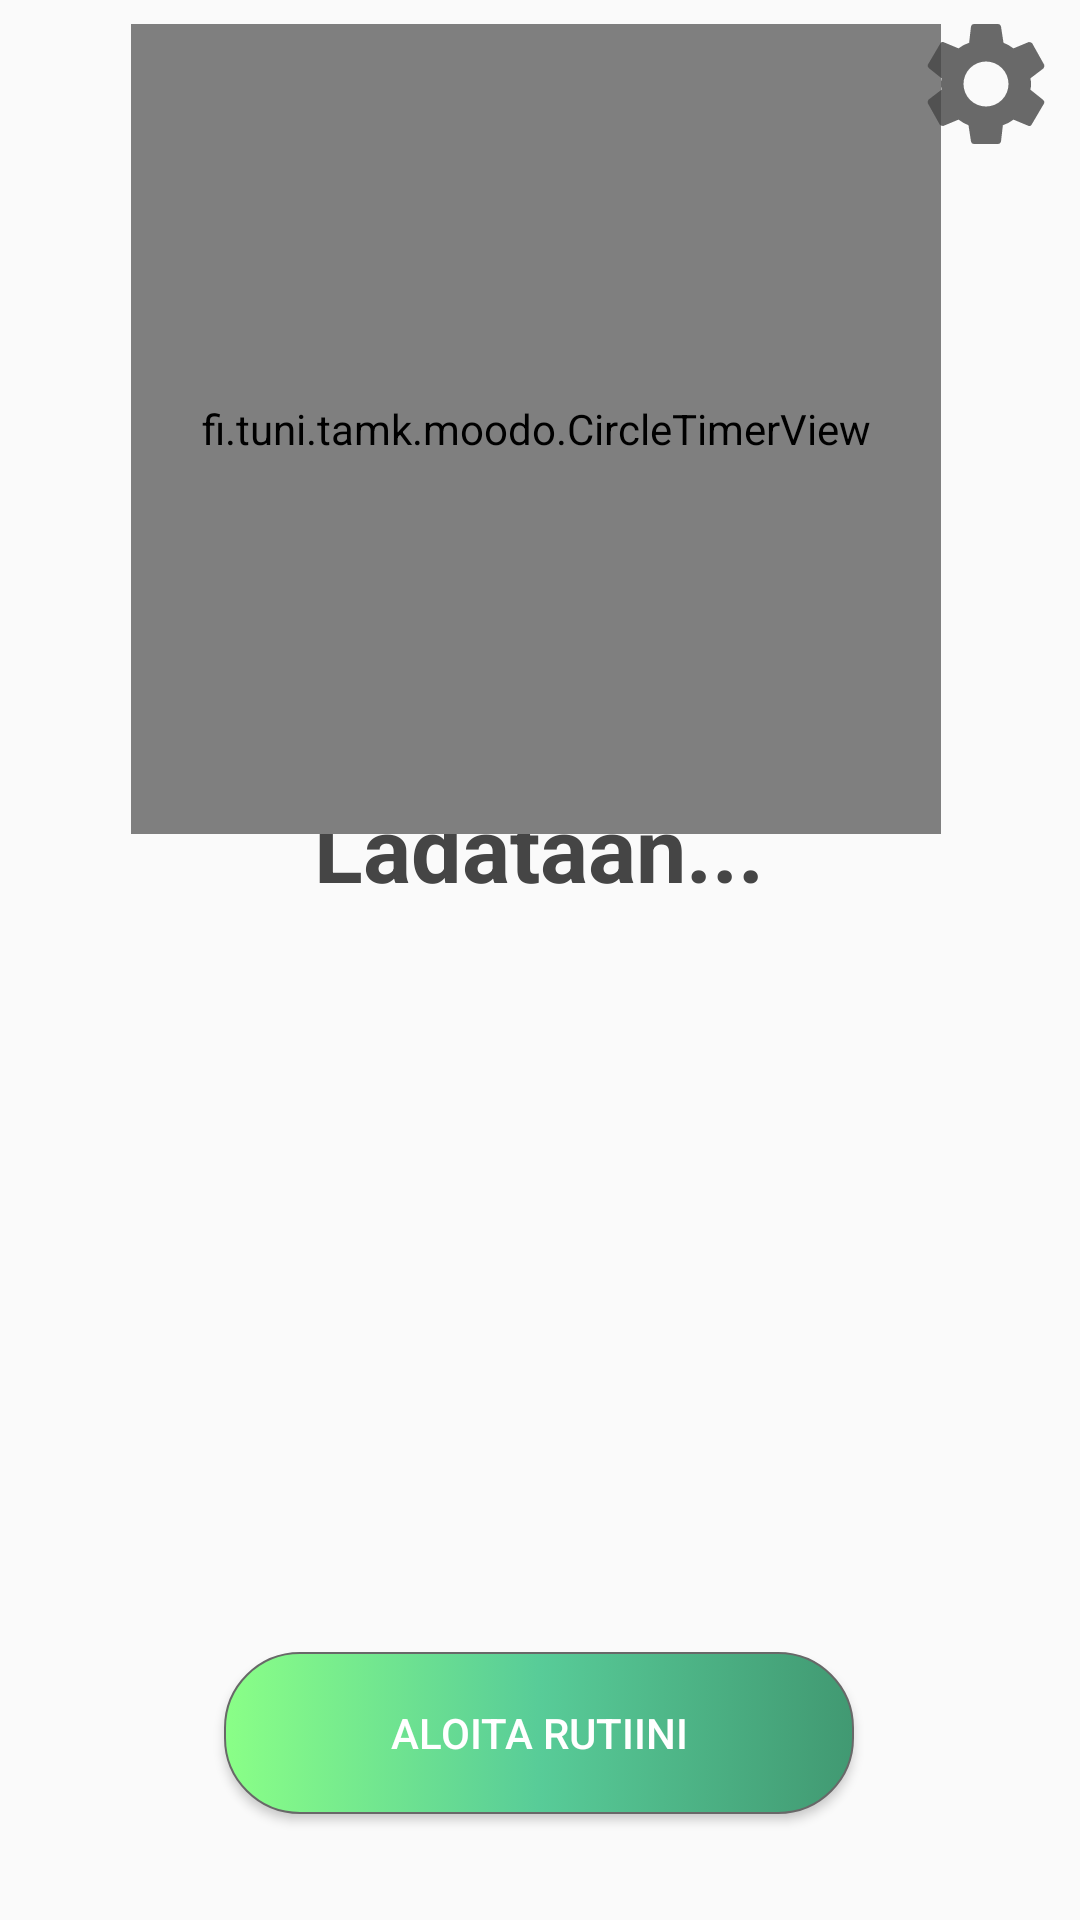

Screen size 1080px x 1920px. Icon name, then its center in pixels as [x,y]:
settings: [978,91]
